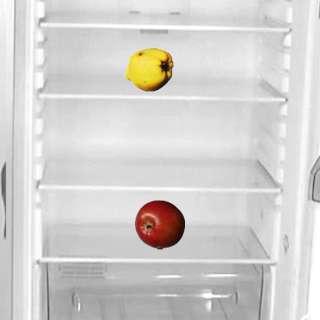Apple Braeburn: (134, 199, 184, 249)
Quince: (123, 44, 173, 94)
